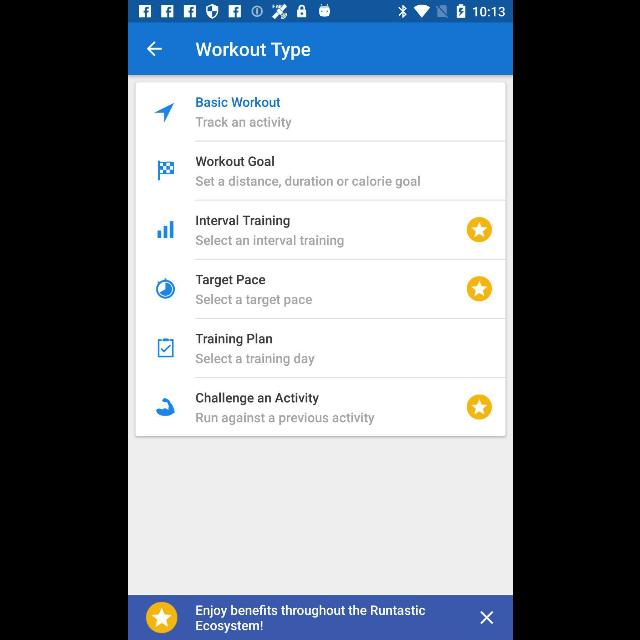icon: (145, 602, 177, 634), (466, 216, 492, 244), (466, 394, 492, 420), (466, 276, 492, 302), (156, 278, 174, 300), (156, 338, 174, 358), (154, 103, 172, 123), (156, 222, 174, 238), (146, 41, 162, 57), (479, 611, 493, 625)
image: (156, 161, 174, 181), (156, 398, 174, 417)
panel: (134, 81, 506, 436)
text: (195, 604, 425, 634), (195, 176, 419, 188), (196, 412, 374, 426), (194, 41, 310, 60), (195, 235, 343, 248), (195, 392, 318, 406), (195, 294, 312, 308), (196, 354, 314, 366), (195, 116, 291, 130), (195, 216, 289, 228), (196, 96, 280, 108), (195, 274, 265, 288), (194, 334, 272, 346), (194, 156, 274, 167)
toolbar: (128, 23, 512, 76)
uppertaskbar: (128, 1, 512, 23)
